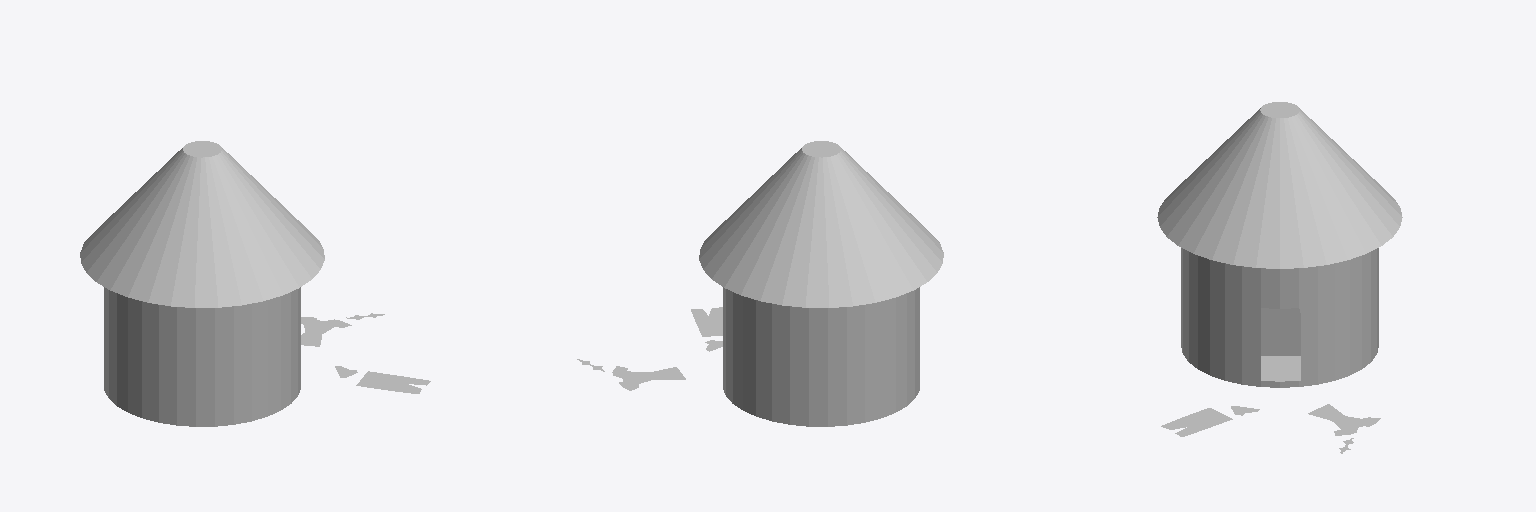
The model's file is Rape_Hut.obj.
3 views of the same model, side by side, from view 1: azimuth 30°, elevation 25°; view 2: azimuth 150°, elevation 25°; view 3: azimuth 270°, elevation 25° (orthographic).
Parts seen in each view (by area): view 1: Cone_Cone.002, Cylinder, Plane.001, Plane; view 2: Cone_Cone.002, Cylinder, Plane, Plane.001; view 3: Cone_Cone.002, Cylinder, Plane.001, Plane.
Boxes of the visible parts, <box> form: Cone_Cone.002: <box>80,141,324,307</box>; Cylinder: <box>104,287,300,426</box>; Plane.001: <box>356,371,430,393</box>; Plane: <box>301,317,351,346</box>; Cone_Cone.002: <box>699,141,943,307</box>; Cylinder: <box>723,287,919,426</box>; Plane: <box>612,366,685,390</box>; Plane.001: <box>691,307,722,336</box>; Cone_Cone.002: <box>1157,102,1402,268</box>; Cylinder: <box>1181,248,1378,387</box>; Plane.001: <box>1161,408,1232,436</box>; Plane: <box>1308,404,1380,435</box>.
Bounding box in the file's own units: 6.29 × 4.51 × 4.18.